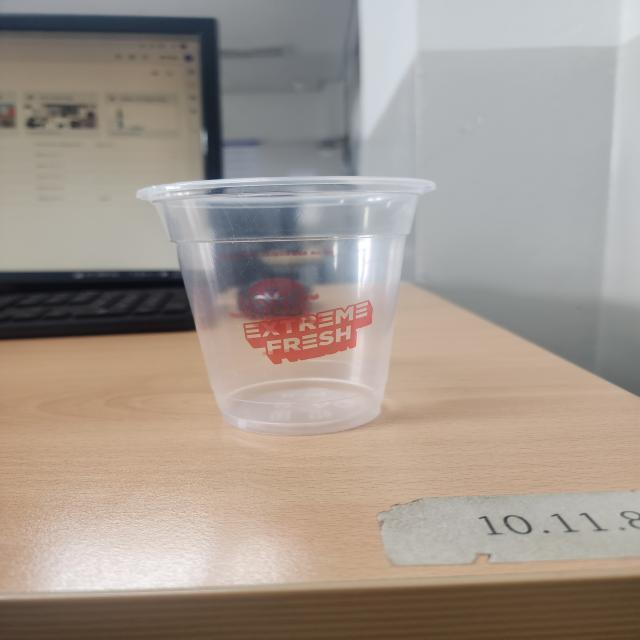bottle: (138, 178, 434, 433)
